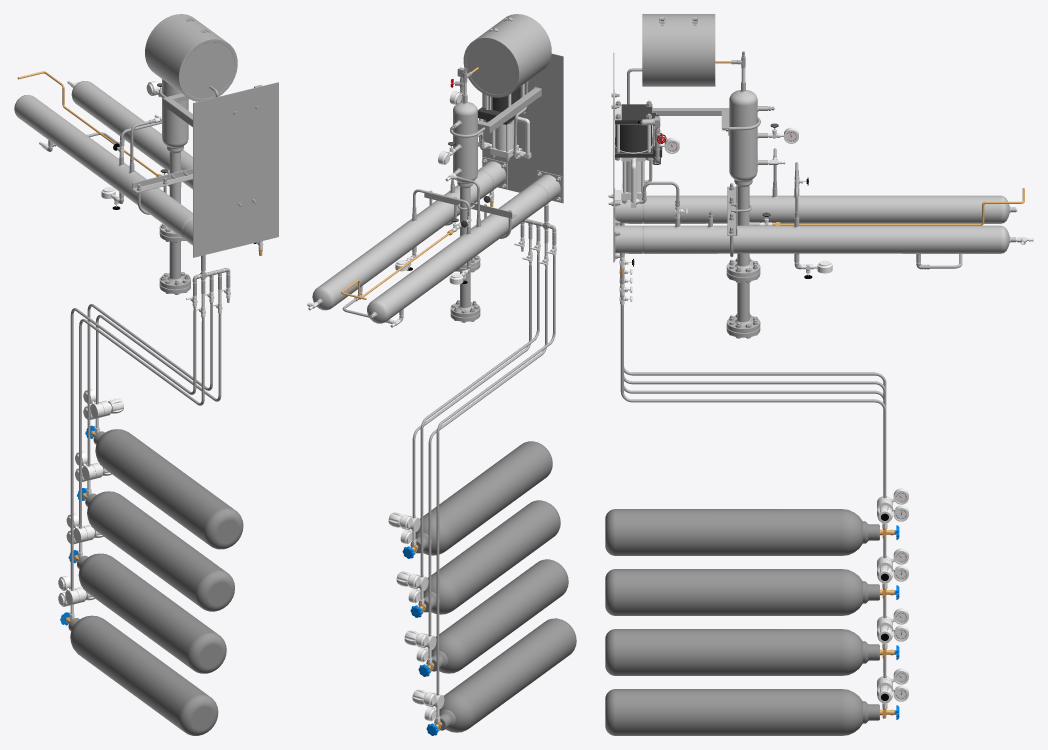
Rendered from gas_circulation_process_modifier.glb.
3 renders of one model, left to right at view 1: azimuth 30°, elevation 25°; view 2: azimuth 150°, elevation 25°; view 3: azimuth 270°, elevation 25°, orthographic. The views are drawn at different scales.
Parts seen in each view (by area): view 1: base, gas_cylinder003, gas_cylinder002, gas_cylinder001, gas_cylinder, heater, tanks001, tanks, C - R_3 pipe, tanks002, C - R_2 pipe, C - R_1 pipe (+5 smaller); view 2: gas_cylinder, gas_cylinder001, gas_cylinder002, gas_cylinder003, tanks001, base, tanks, heater, tanks002, pump_01, C - R_3 pipe, C - R_2 pipe (+5 smaller); view 3: gas_cylinder, gas_cylinder001, gas_cylinder002, gas_cylinder003, tanks, tanks001, heater, tanks002, pump_01, C - R_0 pipe, C - R_1 pipe, base (+4 smaller).
Boxes of the visible parts, x1,y1,x2,y2 form: base: [163, 82, 278, 257]; gas_cylinder003: [93, 429, 243, 549]; gas_cylinder002: [85, 491, 234, 611]; gas_cylinder001: [77, 553, 226, 673]; gas_cylinder: [68, 615, 218, 735]; heater: [145, 14, 237, 101]; tanks001: [14, 95, 192, 245]; tanks: [71, 81, 192, 189]; C - R_3 pipe: [70, 308, 196, 586]; tanks002: [159, 79, 188, 237]; C - R_2 pipe: [79, 319, 204, 524]; C - R_1 pipe: [87, 304, 212, 461]; gas_cylinder: [434, 618, 576, 732]; gas_cylinder001: [426, 559, 568, 673]; gas_cylinder002: [418, 500, 560, 614]; gas_cylinder003: [410, 441, 552, 555]; tanks001: [367, 170, 562, 323]; base: [478, 53, 563, 203]; tanks: [312, 157, 507, 310]; heater: [463, 14, 551, 97]; tanks002: [453, 95, 480, 267]; pump_01: [478, 84, 531, 158]; C - R_3 pipe: [436, 259, 555, 691]; C - R_2 pipe: [428, 269, 547, 632]; gas_cylinder: [605, 689, 879, 735]; gas_cylinder001: [605, 629, 879, 675]; gas_cylinder002: [605, 569, 879, 615]; gas_cylinder003: [605, 509, 879, 555]; tanks: [614, 217, 1015, 262]; tanks001: [614, 187, 1015, 225]; heater: [642, 14, 715, 86]; tanks002: [726, 82, 767, 277]; pump_01: [615, 104, 662, 207]; C - R_0 pipe: [620, 309, 886, 493]; C - R_1 pipe: [620, 306, 886, 553]; base: [613, 52, 729, 262].
Size of the model in its own units: 0.6726 by 3.97 by 2.11.
